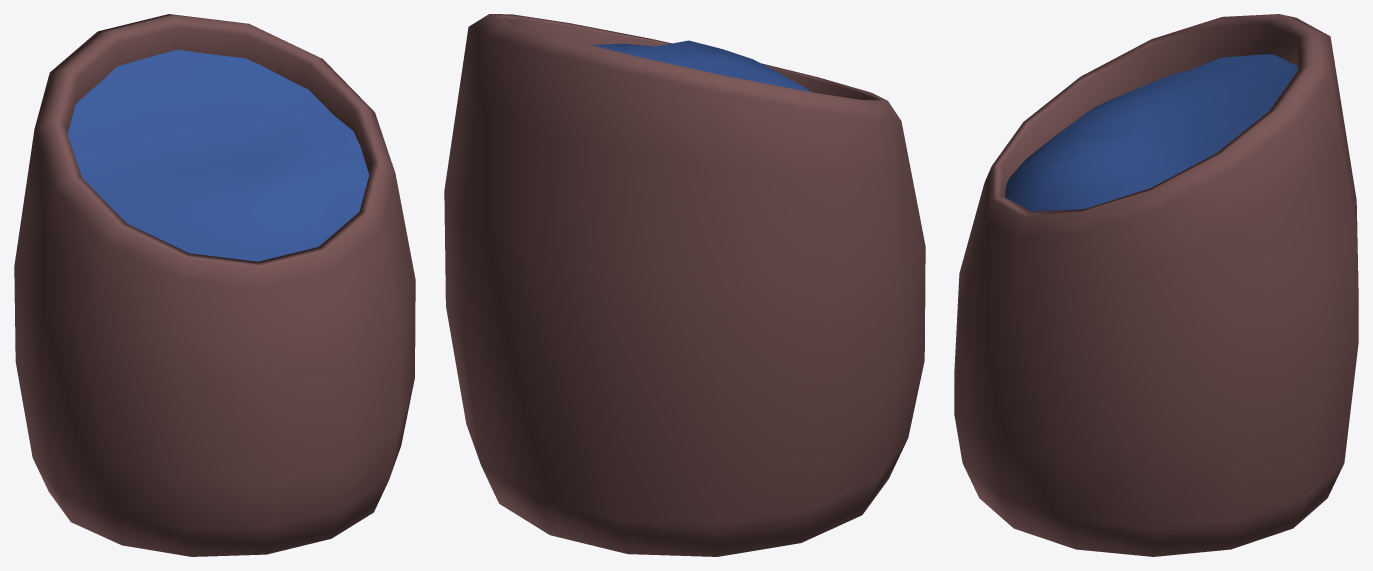
The model's file is MarketBin_01.fbx.
3 views of the same model, side by side, from view 1: azimuth 30°, elevation 25°; view 2: azimuth 150°, elevation 25°; view 3: azimuth 270°, elevation 25° (orthographic). The views are drawn at different scales.
Visible parts, largest first — view 1: MarketBin_01; view 2: MarketBin_01; view 3: MarketBin_01.
Part boxes in pixels (bbox=[...]): MarketBin_01: bbox=[14, 14, 415, 556]; MarketBin_01: bbox=[444, 14, 925, 556]; MarketBin_01: bbox=[954, 14, 1358, 556].
Size of the model in its own units: 272 by 311 by 255.
